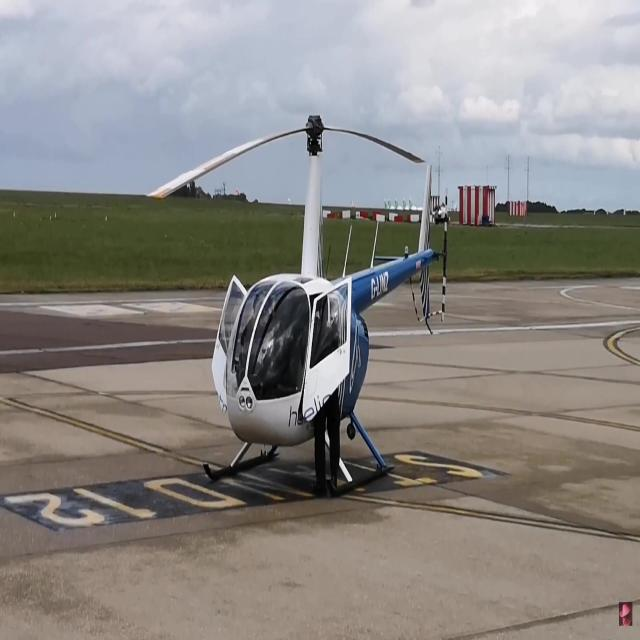CIV_HELO: (199, 108, 441, 505)
